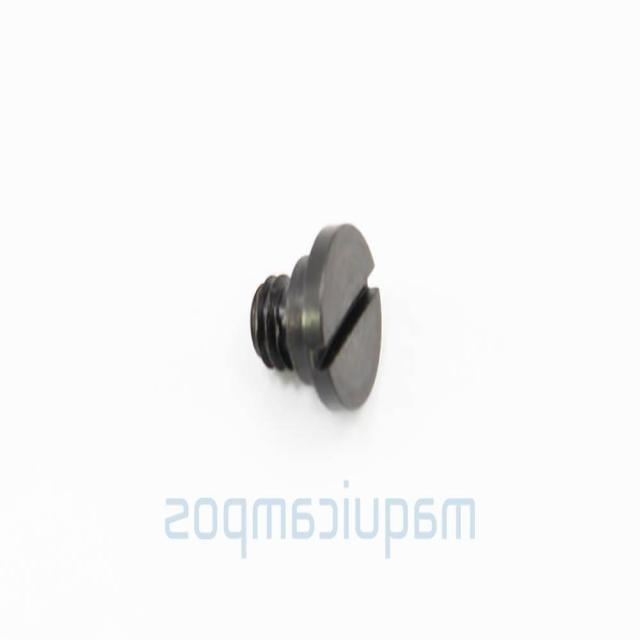duz: (301, 219, 383, 417)
